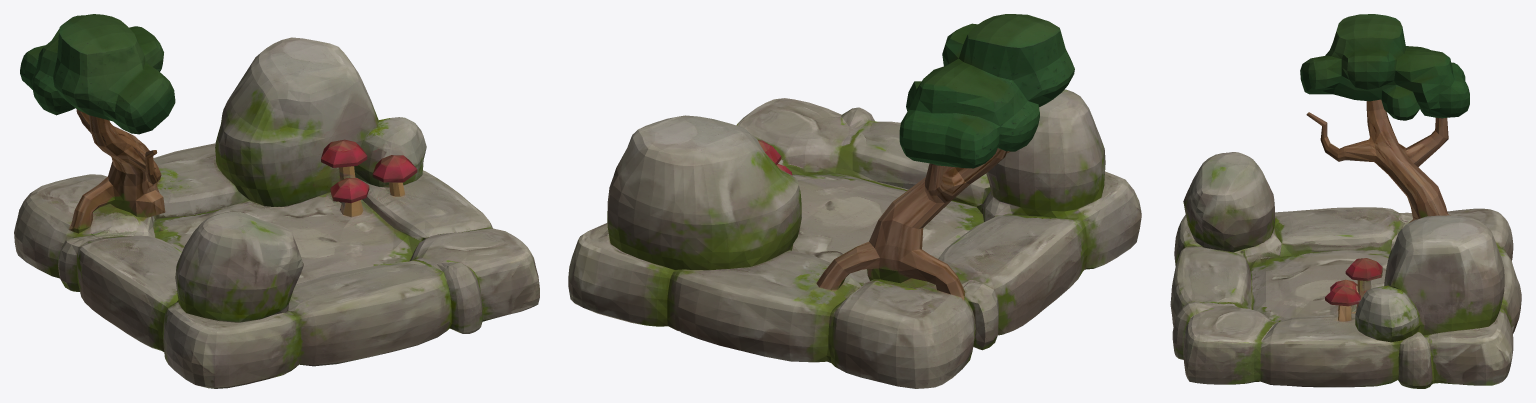
The model's file is Meshy_AI_Tramo_de_camino_de_p__0703115224_texture.glb.
The picture shows the model from 3 angles, left to right: view 1: azimuth 30°, elevation 25°; view 2: azimuth 150°, elevation 25°; view 3: azimuth 270°, elevation 25°; orthographic projection. The views are drawn at different scales.
Size of the model in its own units: 1.9 by 1.33 by 1.81.
1 material, 1 textured.
